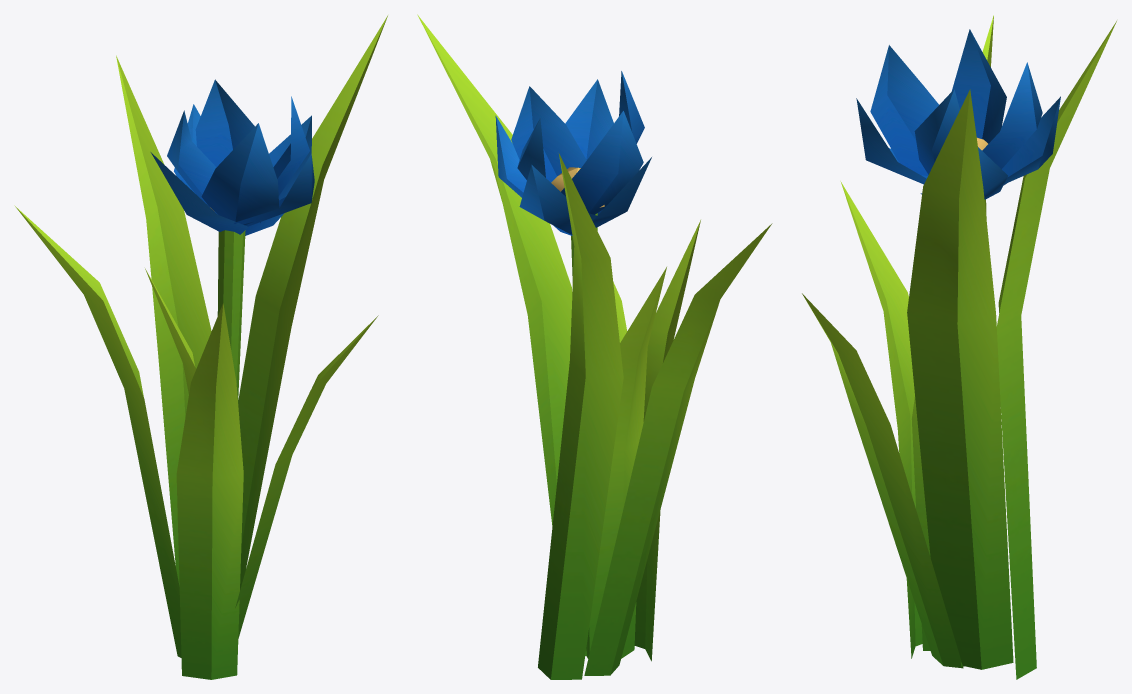
3 views of the same model, side by side, from view 1: azimuth 30°, elevation 25°; view 2: azimuth 150°, elevation 25°; view 3: azimuth 270°, elevation 25° (orthographic). The views are drawn at different scales.
Visible parts, largest first — view 1: FlowerBlue; view 2: FlowerBlue; view 3: FlowerBlue.
Boxes of the visible parts, x1,y1,x2,y2 form: FlowerBlue: (14,15,387,679); FlowerBlue: (417,14,772,679); FlowerBlue: (802,15,1116,679).
Size of the model in its own units: 28.51 by 45 by 19.27.
Materials: 1 (1 with a texture image).
